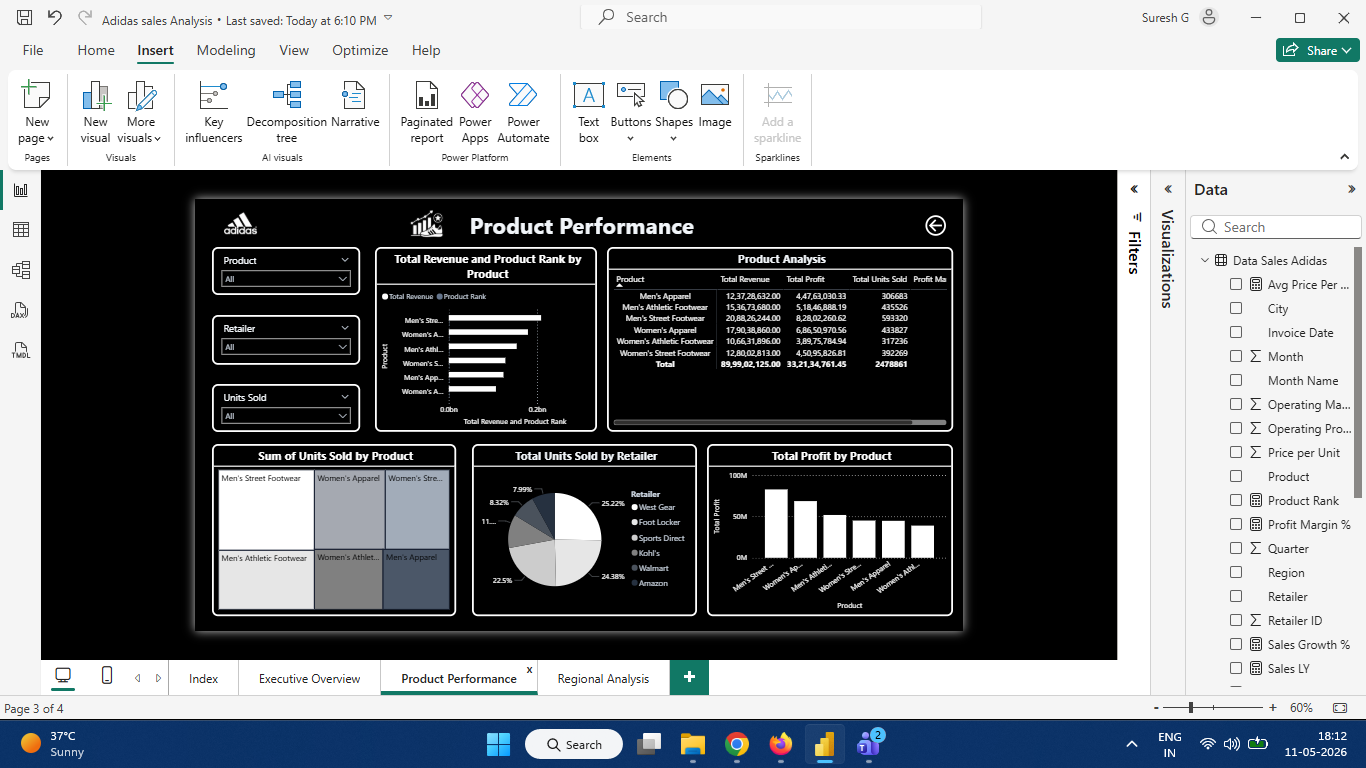

The dashboard page shown, as its layout file describes it:
{"tool":"powerbi","page":{"name":"Product Performance","canvas":[1280,720],"ordinal":2},"visuals":[{"type":"textbox","box":[275,13.3,608.3,66.7],"z":0},{"type":"image","box":[300,0,111.7,75],"z":1},{"type":"clusteredBarChart","fields":{"Category":["Data Sales Adidas.Product"],"Y":["Data Sales Adidas.Total Revenue","Data Sales Adidas.Product Rank"]},"box":[300,80,370,308.3],"z":2},{"type":"clusteredColumnChart","fields":{"Y":["Data Sales Adidas.Total Profit"],"Category":["Data Sales Adidas.Product"]},"box":[853.3,408.3,410,286.7],"z":3},{"type":"treemap","fields":{"Values":["Sum(Data Sales Adidas.Units Sold)"],"Group":["Data Sales Adidas.Product"]},"box":[28.3,408.3,406.7,286.7],"z":4},{"type":"pivotTable","title":"Product  Analysis","fields":{"Rows":["Data Sales Adidas.Product"],"Values":["Data Sales Adidas.Total Revenue","Data Sales Adidas.Total Profit","Data Sales Adidas.Total Units Sold","Data Sales Adidas.Profit Margin %"]},"box":[686.7,80,576.7,308.3],"z":5},{"type":"pieChart","fields":{"Y":["Data Sales Adidas.Total Units Sold"],"Category":["Data Sales Adidas.Retailer"]},"box":[461.7,408.3,375,286.7],"z":6},{"type":"slicer","fields":{"Values":["Data Sales Adidas.Product"]},"box":[28.3,80,246.7,80],"z":7},{"type":"slicer","fields":{"Values":["Data Sales Adidas.Retailer"]},"box":[28.3,193.3,246.7,83.3],"z":8},{"type":"slicer","fields":{"Values":["Data Sales Adidas.Units Sold"]},"box":[28.3,308.3,246.7,80],"z":9},{"type":"actionButton","box":[1205,21.7,58.3,45],"z":10},{"type":"image","box":[18.3,16.7,113.3,50],"z":11}]}

Visuals, with their boxes on the page's 1280x720 design canvas (x1, y1, x2, y2). These are canvas units, not pixel positions in the 1366x768 screenshot, which may show the page scaled, cropped or inside an application window:
textbox: x1=275 y1=13 x2=883 y2=80
image: x1=300 y1=0 x2=412 y2=75
clusteredBarChart - Data Sales Adidas.Product x Data Sales Adidas.Total Revenue: x1=300 y1=80 x2=670 y2=388
clusteredColumnChart - Data Sales Adidas.Total Profit x Data Sales Adidas.Product: x1=853 y1=408 x2=1263 y2=695
treemap - Sum(Data Sales Adidas.Units Sold) x Data Sales Adidas.Product: x1=28 y1=408 x2=435 y2=695
"Product  Analysis" pivotTable: x1=687 y1=80 x2=1263 y2=388
pieChart - Data Sales Adidas.Total Units Sold x Data Sales Adidas.Retailer: x1=462 y1=408 x2=837 y2=695
slicer - Data Sales Adidas.Product: x1=28 y1=80 x2=275 y2=160
slicer - Data Sales Adidas.Retailer: x1=28 y1=193 x2=275 y2=277
slicer - Data Sales Adidas.Units Sold: x1=28 y1=308 x2=275 y2=388
actionButton: x1=1205 y1=22 x2=1263 y2=67
image: x1=18 y1=17 x2=132 y2=67
